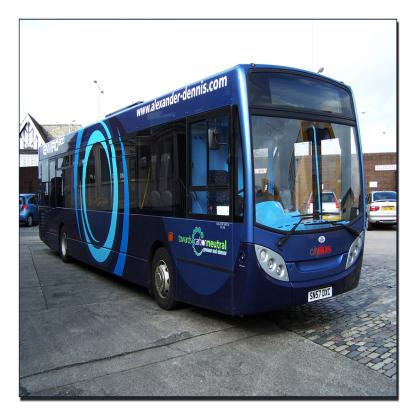Bus: (38, 65, 367, 310)
